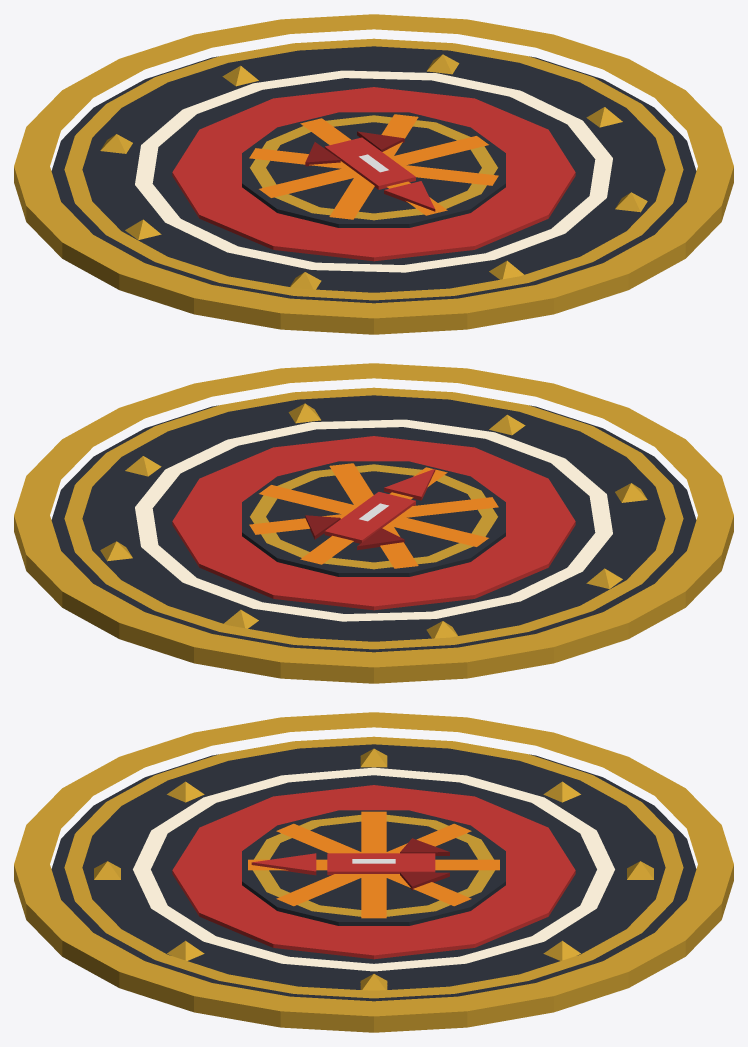
File: rocket_soldier_legend_area.glb
3 views of the same model, one above another, from view 1: azimuth 30°, elevation 25°; view 2: azimuth 150°, elevation 25°; view 3: azimuth 270°, elevation 25° (orthographic).
Parts seen in each view (by area): view 1: rocket_soldier_legend_area; view 2: rocket_soldier_legend_area; view 3: rocket_soldier_legend_area.
Part boxes in pixels (x1=…): rocket_soldier_legend_area: x1=14, y1=14, x2=733, y2=334; rocket_soldier_legend_area: x1=14, y1=363, x2=733, y2=683; rocket_soldier_legend_area: x1=14, y1=712, x2=733, y2=1032.
Size of the model in its own units: 2 by 0.06 by 2.
Materials: 2 (2 with a texture image).
